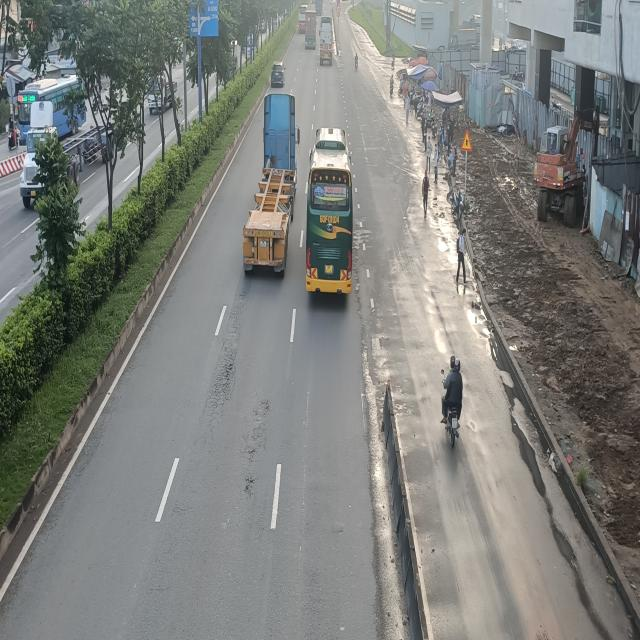coach: (306, 126, 357, 296)
container: (243, 95, 300, 279), (318, 15, 334, 64), (306, 10, 318, 50)
